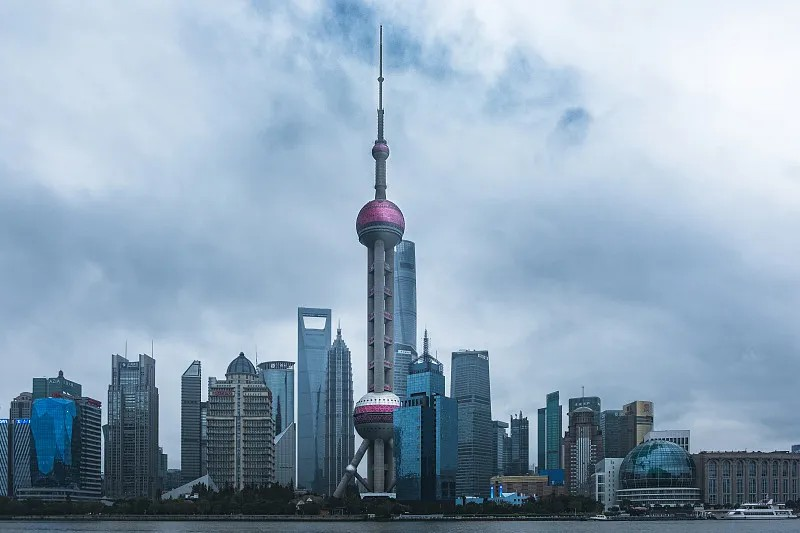Oriental: (333, 21, 405, 494)
